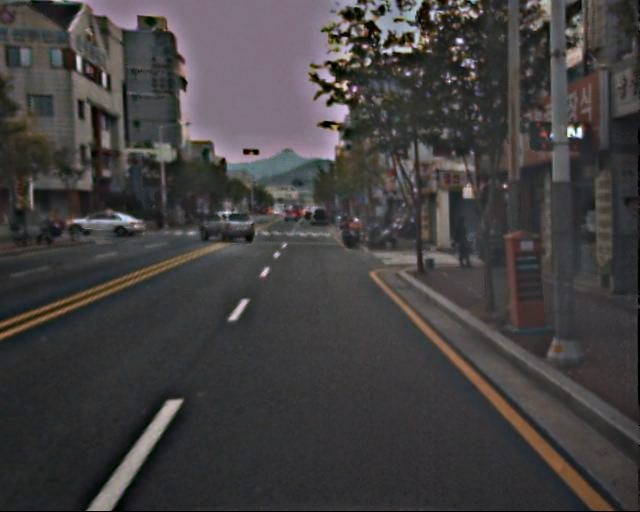person: (453, 215, 475, 269)
